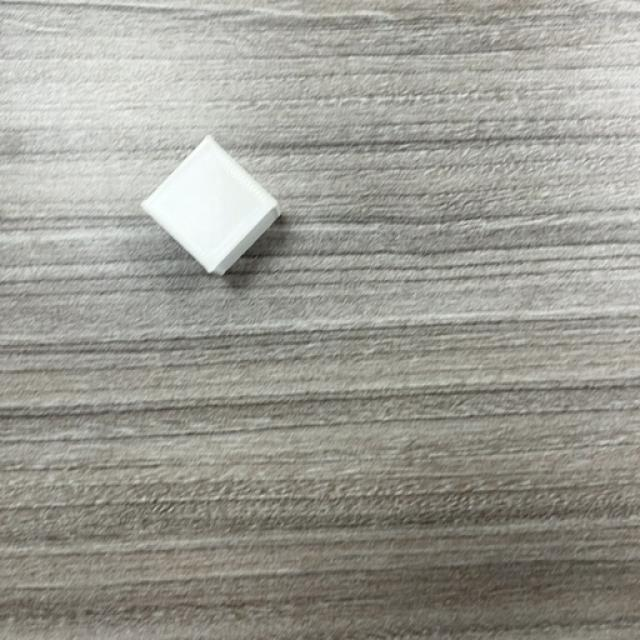Blanco: (140, 136, 282, 278)
